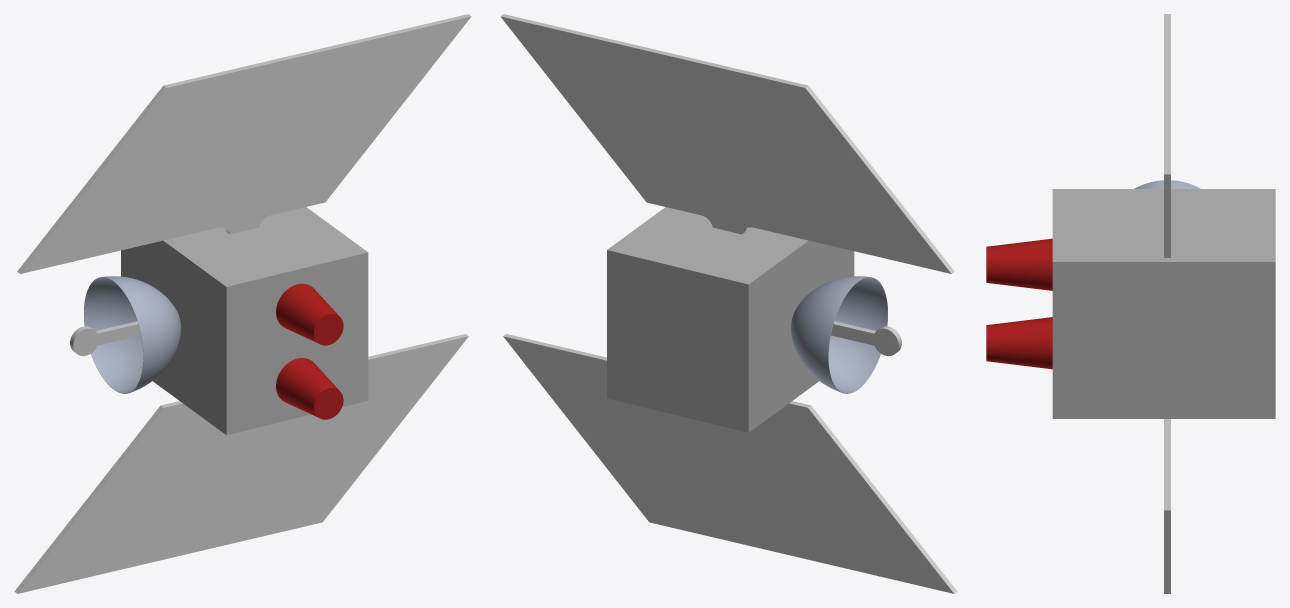
File: FullSat.dae
3 renders of one model, left to right at view 1: azimuth 30°, elevation 25°; view 2: azimuth 150°, elevation 25°; view 3: azimuth 270°, elevation 25°, orthographic. The views are drawn at different scales.
Parts seen in each view (by area): view 1: Body_1 (×5); view 2: Body_1 (×3); view 3: Body_1 (×4).
Part boxes in pixels (x1,y1,x2,y2): Body_1 (×5): (14, 14, 471, 593); Body_1 (×3): (500, 14, 957, 593); Body_1 (×4): (986, 14, 1275, 593).
Size of the model in its own units: 1.01 by 0.527 by 1.
